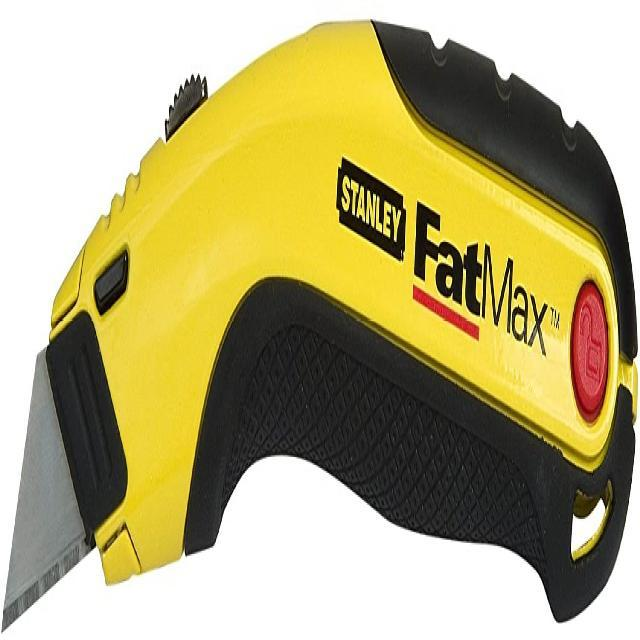estilete: (4, 21, 636, 626)
